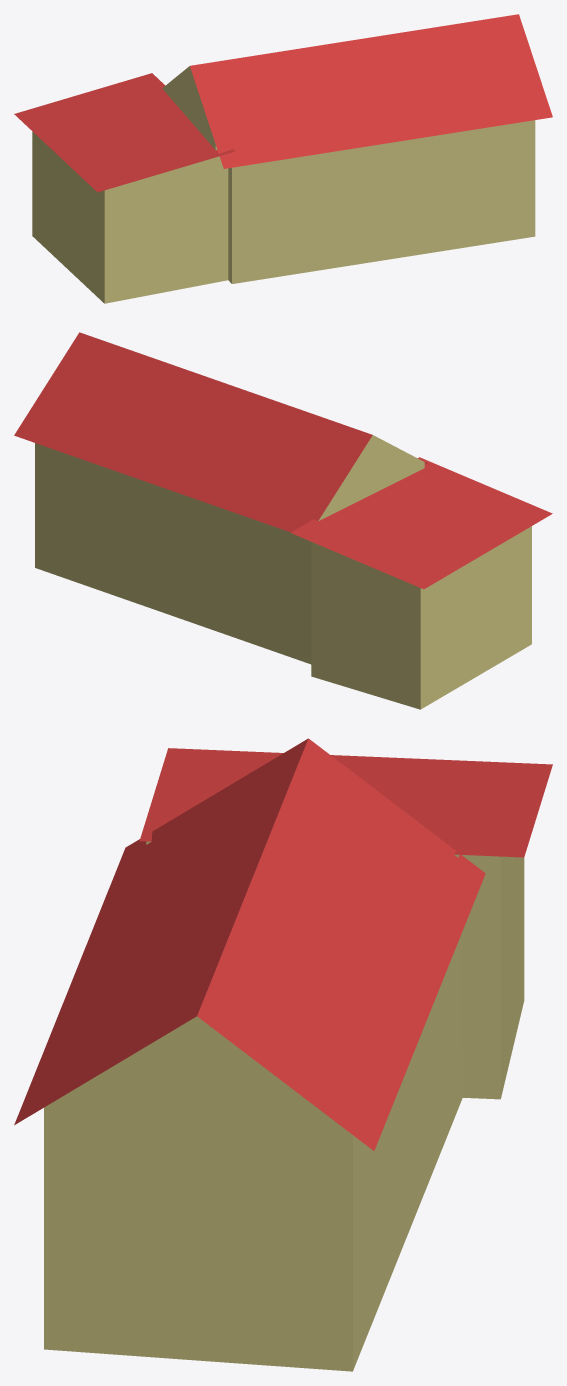
3 renders of one model, top to bottom at view 1: azimuth 30°, elevation 25°; view 2: azimuth 150°, elevation 25°; view 3: azimuth 270°, elevation 25°, orthographic. The views are drawn at different scales.
Size of the model in its own units: 27.82 by 15.45 by 11.24.
